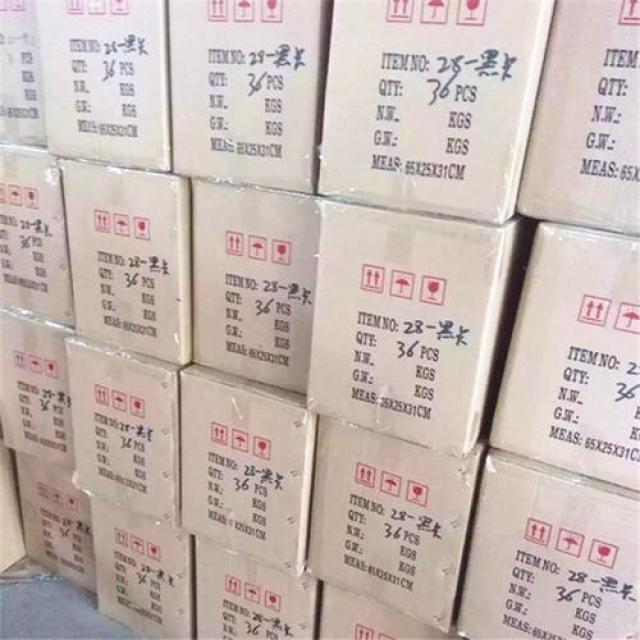box: (306, 199, 534, 459), (316, 1, 557, 226), (485, 220, 639, 494), (308, 418, 485, 635), (454, 446, 639, 639), (167, 1, 332, 194), (179, 364, 318, 578), (518, 1, 639, 238), (188, 178, 318, 397), (57, 158, 190, 366), (33, 1, 173, 174), (65, 330, 183, 528), (89, 495, 194, 638), (0, 143, 76, 329), (192, 536, 324, 638), (0, 305, 75, 469), (13, 452, 95, 594), (315, 584, 468, 639), (0, 0, 48, 149), (0, 448, 28, 573)
